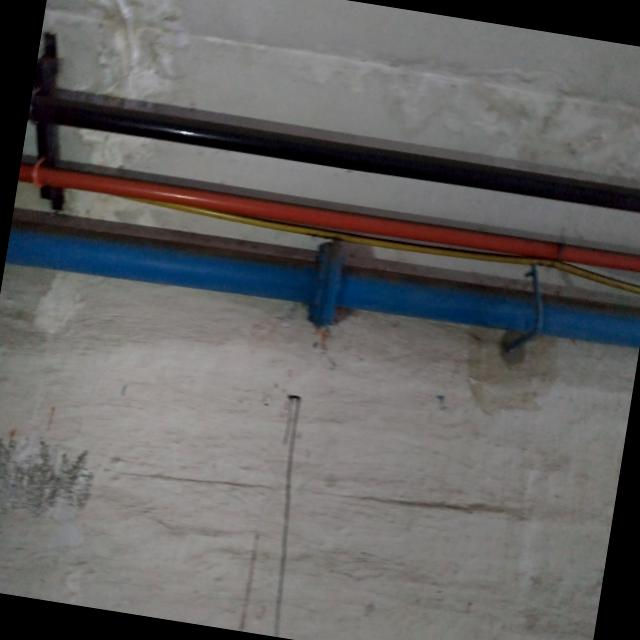gas: (28, 80, 640, 217), (5, 223, 640, 349), (19, 153, 640, 277)
